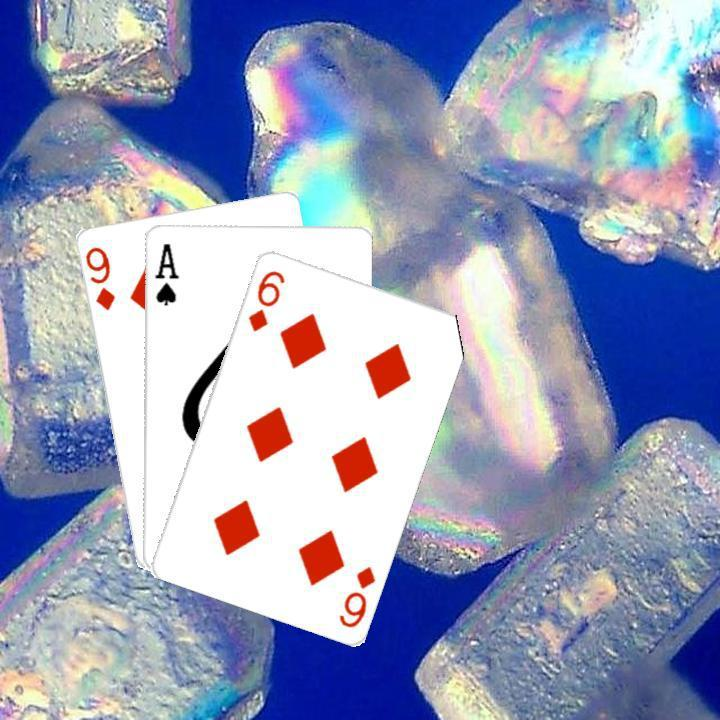6: (243, 265, 287, 333), (334, 561, 377, 629)
9: (81, 242, 117, 312)
A: (149, 238, 180, 307)
